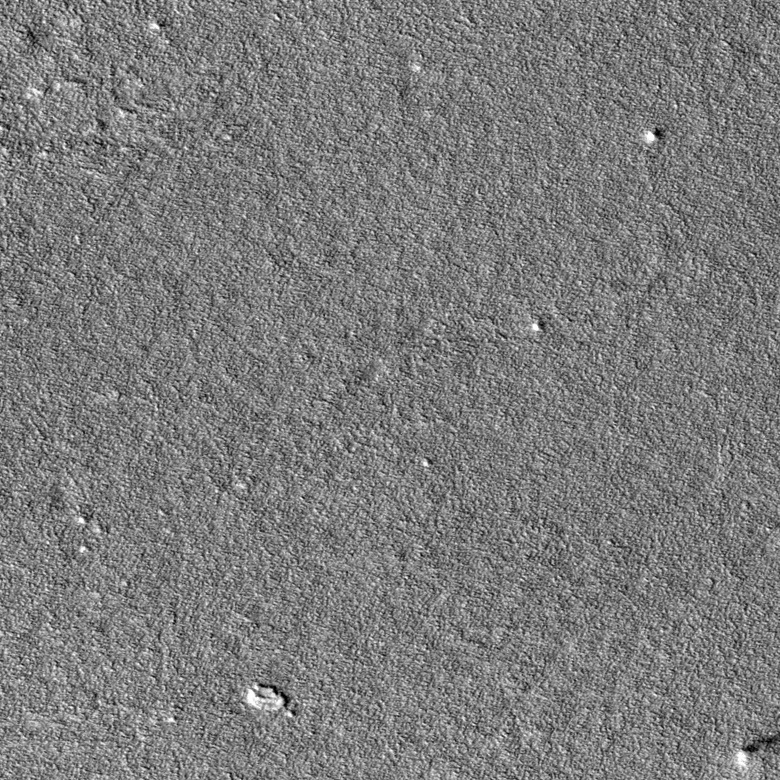dust_devil: (734, 732, 780, 770)
